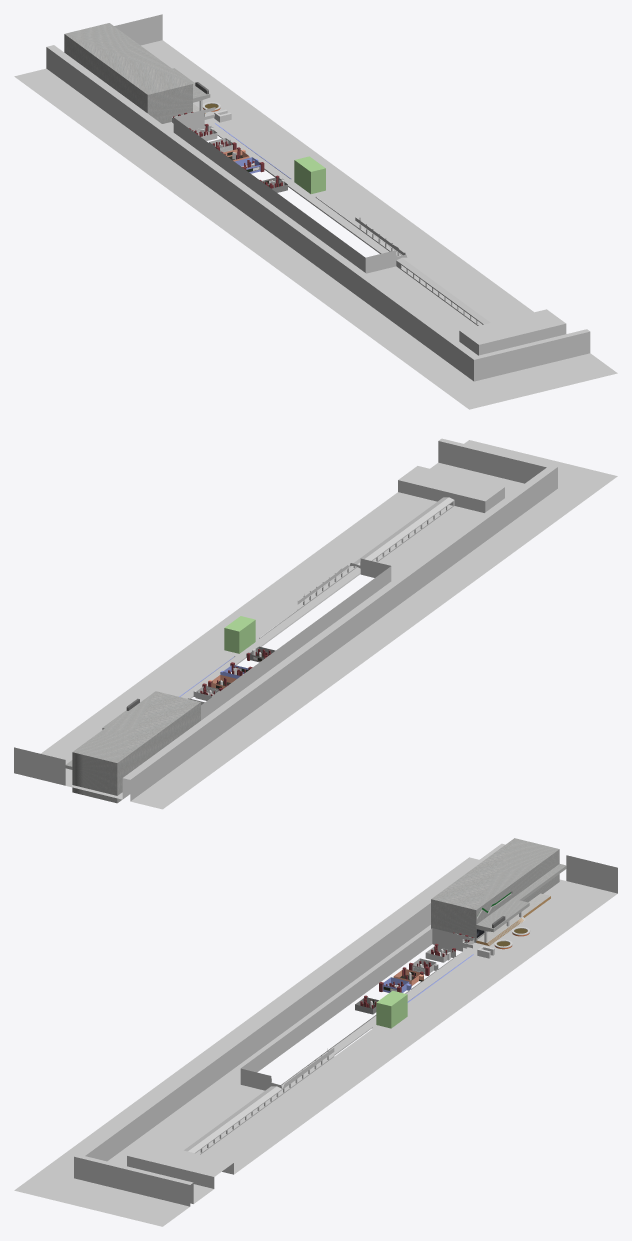
Rendered from msu.glb.
The picture shows the model from 3 angles, top to bottom: view 1: azimuth 30°, elevation 25°; view 2: azimuth 150°, elevation 25°; view 3: azimuth 330°, elevation 25°; orthographic projection.
Parts seen in each view (by area): view 1: Cube.039, Plane.001, Cube.062; view 2: Cube.039, Plane.001, Cube.062; view 3: Cube.039, Plane.001, Cube.062.
Boxes of the visible parts, x1,y1,x2,y2 form: Cube.039: [14, 14, 617, 409]; Plane.001: [64, 23, 210, 123]; Cube.062: [294, 156, 325, 193]; Cube.039: [14, 438, 617, 809]; Plane.001: [65, 691, 200, 803]; Cube.062: [224, 616, 255, 653]; Cube.039: [14, 843, 617, 1226]; Plane.001: [431, 838, 566, 945]; Cube.062: [376, 990, 407, 1028].
Bounding box in the file's own units: 154 × 39.82 × 817.
33 materials, 6 textured.
